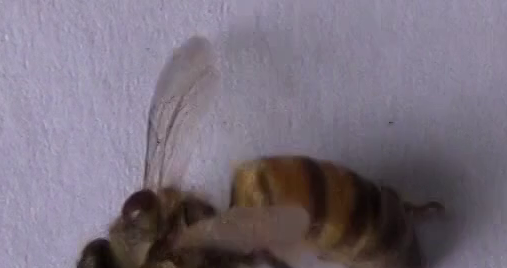Varroa destructor: (115, 190, 158, 227)
